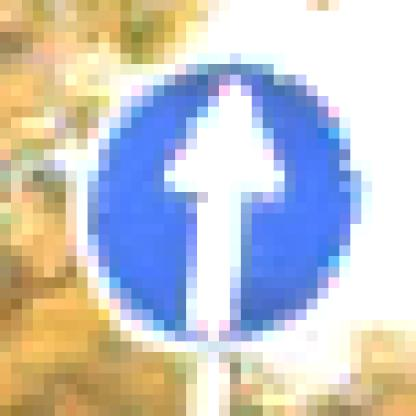AheadOnly: (67, 54, 362, 353)
